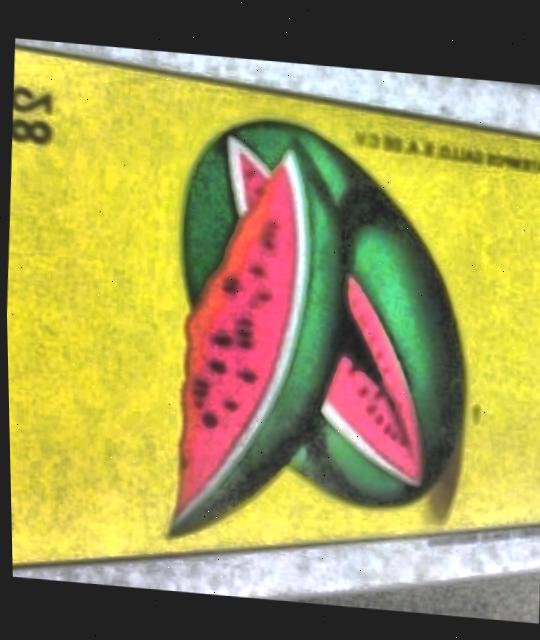La Sandia: (5, 43, 540, 563)
